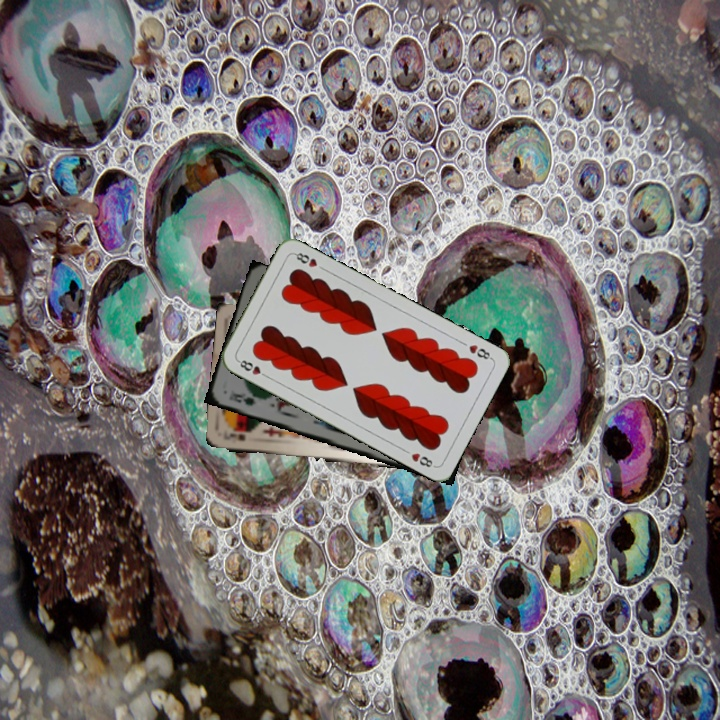GK: (225, 389, 264, 408)
H8: (234, 356, 271, 380), (465, 340, 495, 362)
SK: (222, 426, 247, 443)
